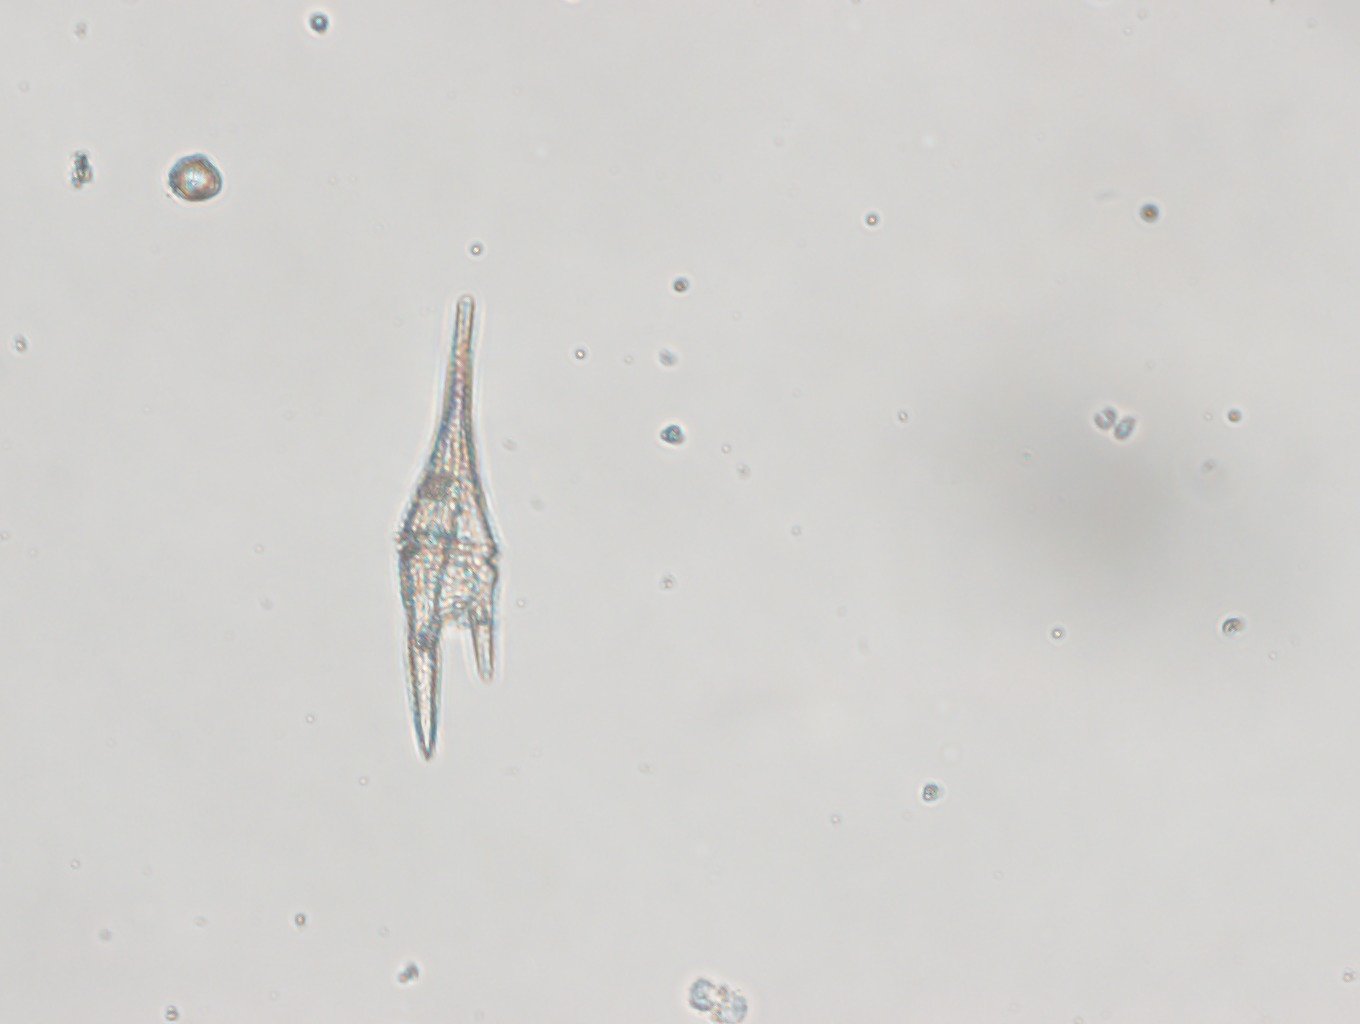ceratium furca: (393, 289, 505, 760)
